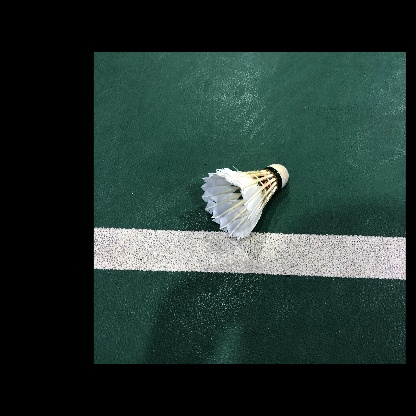ball_single: (201, 164, 289, 240)
